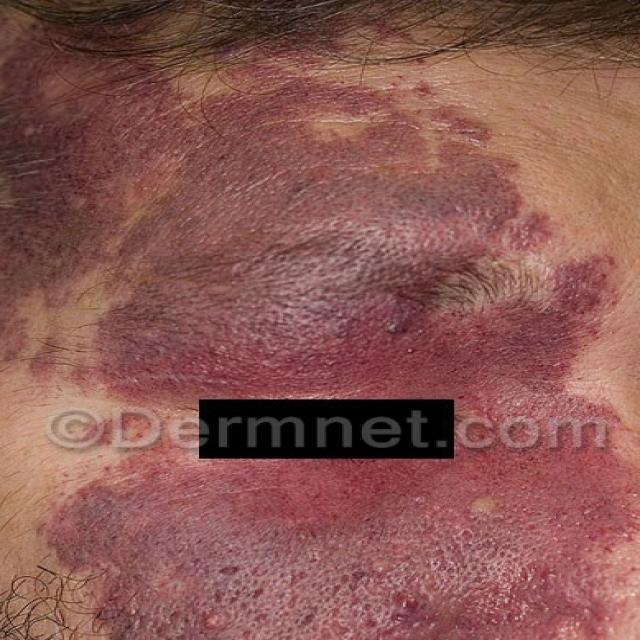Vascular Tumors: (0, 35, 627, 640)
